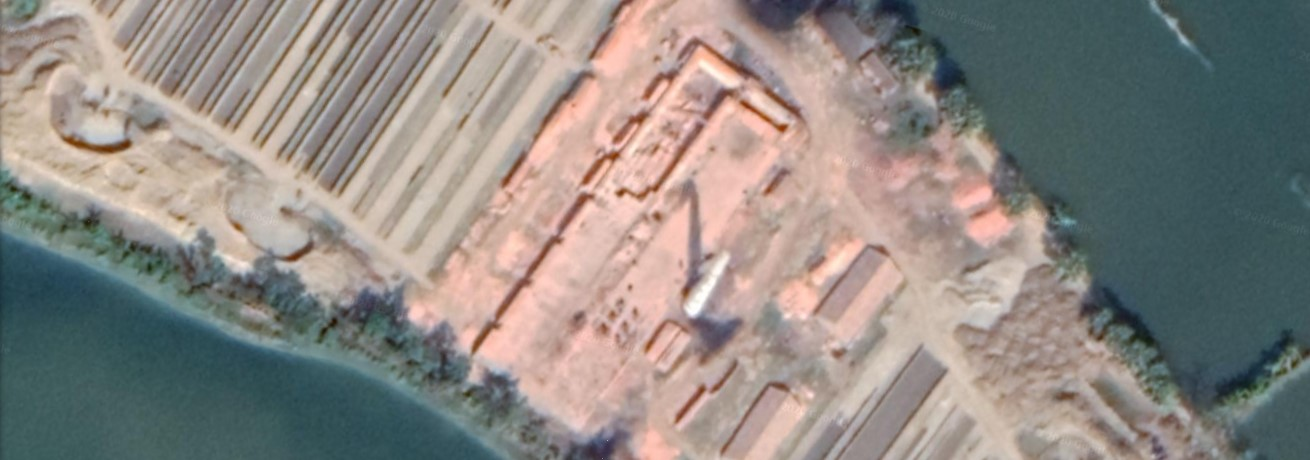kiln: (514, 148, 799, 385)
